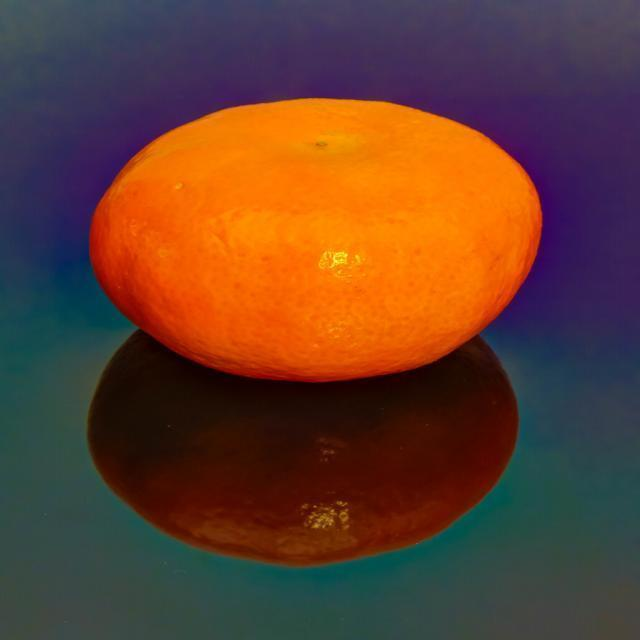Orange: (89, 98, 542, 382)
